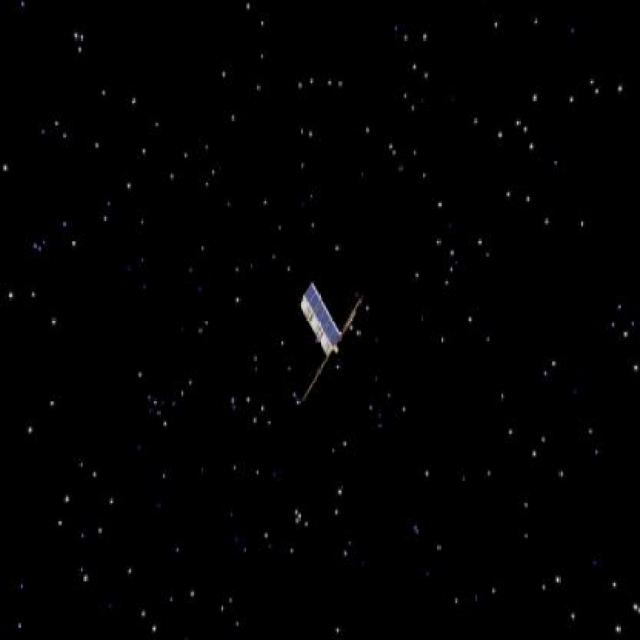satellite: (269, 283, 377, 402)
